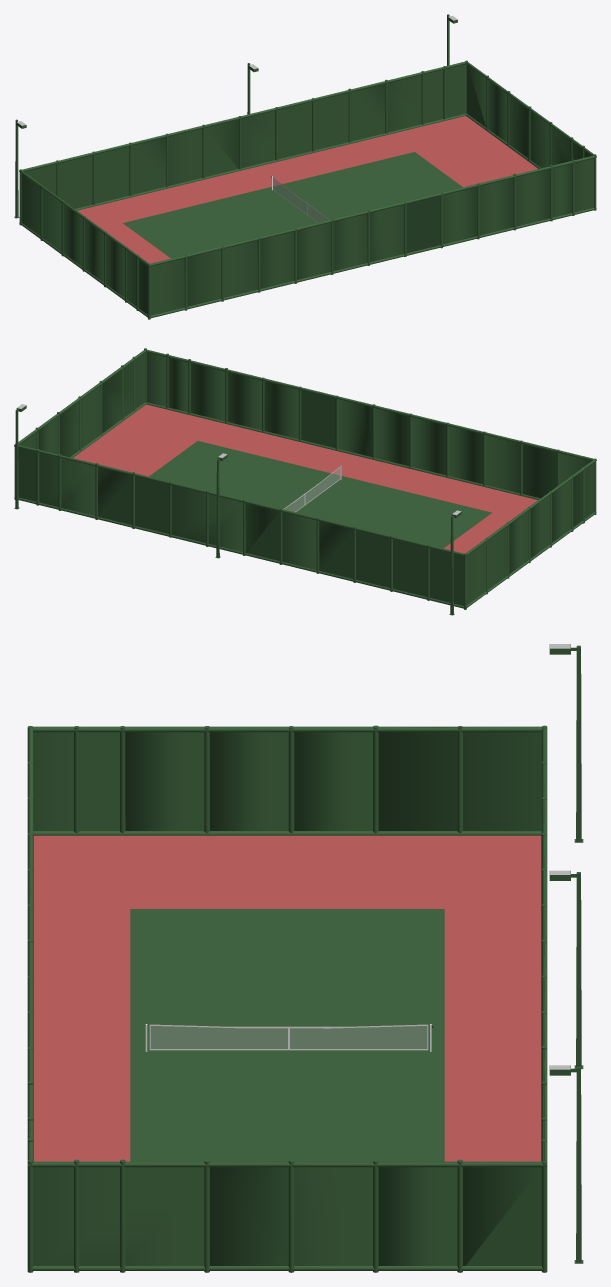
The model's file is tennis.obj.
3 views of the same model, one above another, from view 1: azimuth 30°, elevation 25°; view 2: azimuth 150°, elevation 25°; view 3: azimuth 270°, elevation 25° (orthographic). The views are drawn at different scales.
Visible parts, largest first — view 1: Mesh37 Group1 Model, Mesh40 Group1 Model, Mesh31 Group1 Model; view 2: Mesh37 Group1 Model, Mesh40 Group1 Model, Mesh34 Group1 Model, Mesh36 Group1 Model, Mesh31 Group1 Model; view 3: Mesh37 Group1 Model, Mesh40 Group1 Model, Mesh34 Group1 Model, Mesh31 Group1 Model, Mesh36 Group1 Model.
Boxes of the visible parts, x1,y1,x2,y2 form: Mesh37 Group1 Model: (19,60,596,319); Mesh40 Group1 Model: (273,177,329,222); Mesh31 Group1 Model: (14,119,26,218); Mesh37 Group1 Model: (14,348,596,608); Mesh40 Group1 Model: (283,467,340,512); Mesh34 Group1 Model: (14,404,26,509); Mesh36 Group1 Model: (215,453,227,558); Mesh31 Group1 Model: (449,510,461,615); Mesh37 Group1 Model: (27,725,547,1272); Mesh40 Group1 Model: (149,1024,428,1050); Mesh34 Group1 Model: (549,1065,583,1263); Mesh31 Group1 Model: (549,644,583,842); Mesh36 Group1 Model: (549,870,583,1069).
Bounding box in the file's own units: 1448 × 301 × 777.
